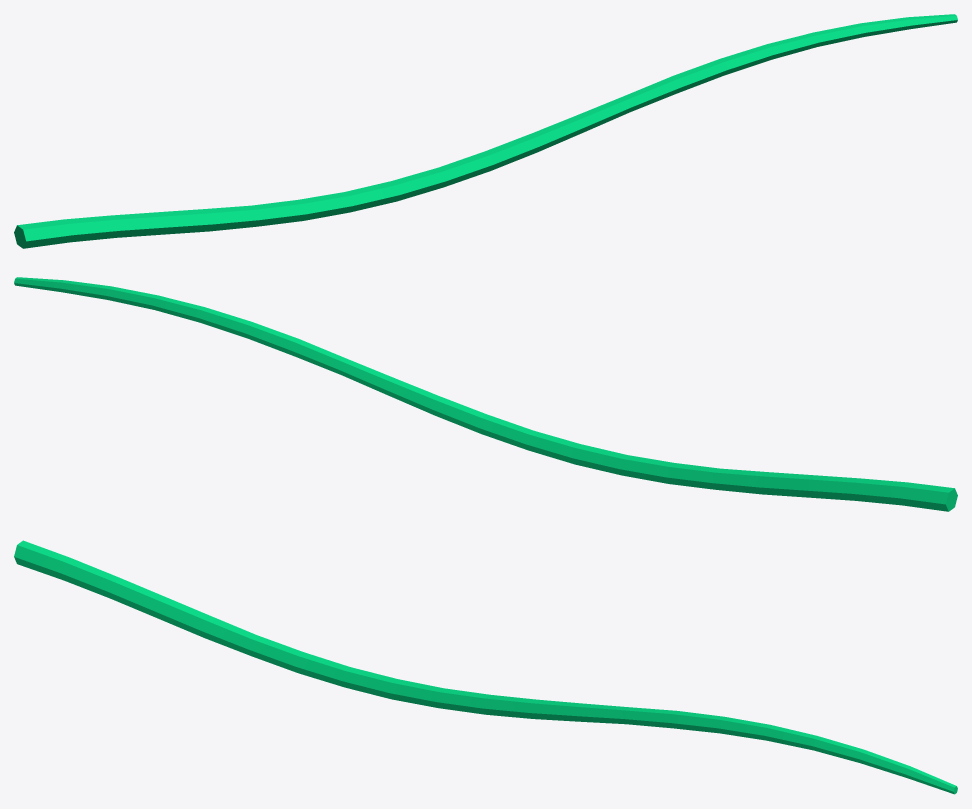
Rendered from Big_Liana_01.fbx.
The picture shows the model from 3 angles, top to bottom: view 1: azimuth 30°, elevation 25°; view 2: azimuth 150°, elevation 25°; view 3: azimuth 330°, elevation 25°; orthographic projection.
Visible parts, largest first — view 1: Big_Liana_01; view 2: Big_Liana_01; view 3: Big_Liana_01.
Part boxes in pixels (x1,y1,x2,y2): Big_Liana_01: (14,14,957,248); Big_Liana_01: (14,277,957,511); Big_Liana_01: (14,540,957,794).
Size of the model in its own units: 1210 by 78.42 by 27.35.
